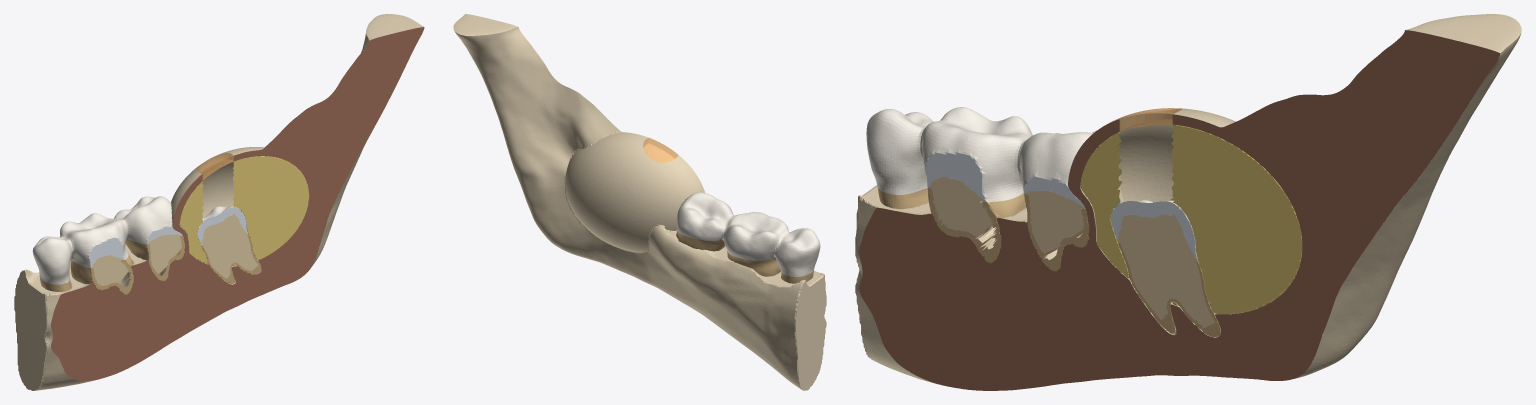
File: marsup-during.glb
3 renders of one model, left to right at view 1: azimuth 30°, elevation 25°; view 2: azimuth 150°, elevation 25°; view 3: azimuth 330°, elevation 25°, orthographic. The views are drawn at different scales.
Parts seen in each view (by area): view 1: bone cut, bone, cyst cut, teeth, third molar cut 4, teeth cut 4, teeth roots, teeth cut 2, teeth cut 3, third molar cut 2, removed bone, third molar cut 3; view 2: bone, teeth, teeth roots, removed bone; view 3: bone cut, bone, cyst cut, teeth, third molar cut 4, teeth cut 4, teeth cut 2, teeth cut 3, third molar cut 2, teeth roots, third molar cut 3, removed bone.
Boxes of the visible parts, x1=… form: bone cut: x1=50, y1=27, x2=424, y2=380; bone: x1=14, y1=14, x2=423, y2=390; cyst cut: x1=180, y1=156, x2=308, y2=265; teeth: x1=32, y1=196, x2=172, y2=284; third molar cut 4: x1=201, y1=213, x2=258, y2=278; teeth cut 4: x1=91, y1=234, x2=182, y2=285; teeth roots: x1=40, y1=239, x2=183, y2=291; teeth cut 2: x1=89, y1=226, x2=182, y2=267; teeth cut 3: x1=90, y1=236, x2=184, y2=294; third molar cut 2: x1=197, y1=207, x2=247, y2=245; removed bone: x1=197, y1=153, x2=233, y2=180; third molar cut 3: x1=201, y1=234, x2=261, y2=283; bone: x1=453, y1=14, x2=826, y2=390; teeth: x1=677, y1=192, x2=820, y2=276; teeth roots: x1=676, y1=231, x2=813, y2=283; removed bone: x1=643, y1=137, x2=678, y2=162; bone cut: x1=859, y1=30, x2=1500, y2=390; bone: x1=855, y1=14, x2=1521, y2=384; cyst cut: x1=1080, y1=124, x2=1302, y2=314; teeth: x1=866, y1=107, x2=1096, y2=202; third molar cut 4: x1=1117, y1=214, x2=1215, y2=328; teeth cut 4: x1=928, y1=177, x2=1085, y2=254; teeth cut 2: x1=925, y1=152, x2=1084, y2=208; teeth cut 3: x1=927, y1=188, x2=1089, y2=271; third molar cut 2: x1=1110, y1=201, x2=1197, y2=260; teeth roots: x1=877, y1=188, x2=1085, y2=271; third molar cut 3: x1=1118, y1=242, x2=1220, y2=337; removed bone: x1=1119, y1=108, x2=1182, y2=131.
Bounding box in the file's own units: 81.87 × 59.05 × 12.39.
